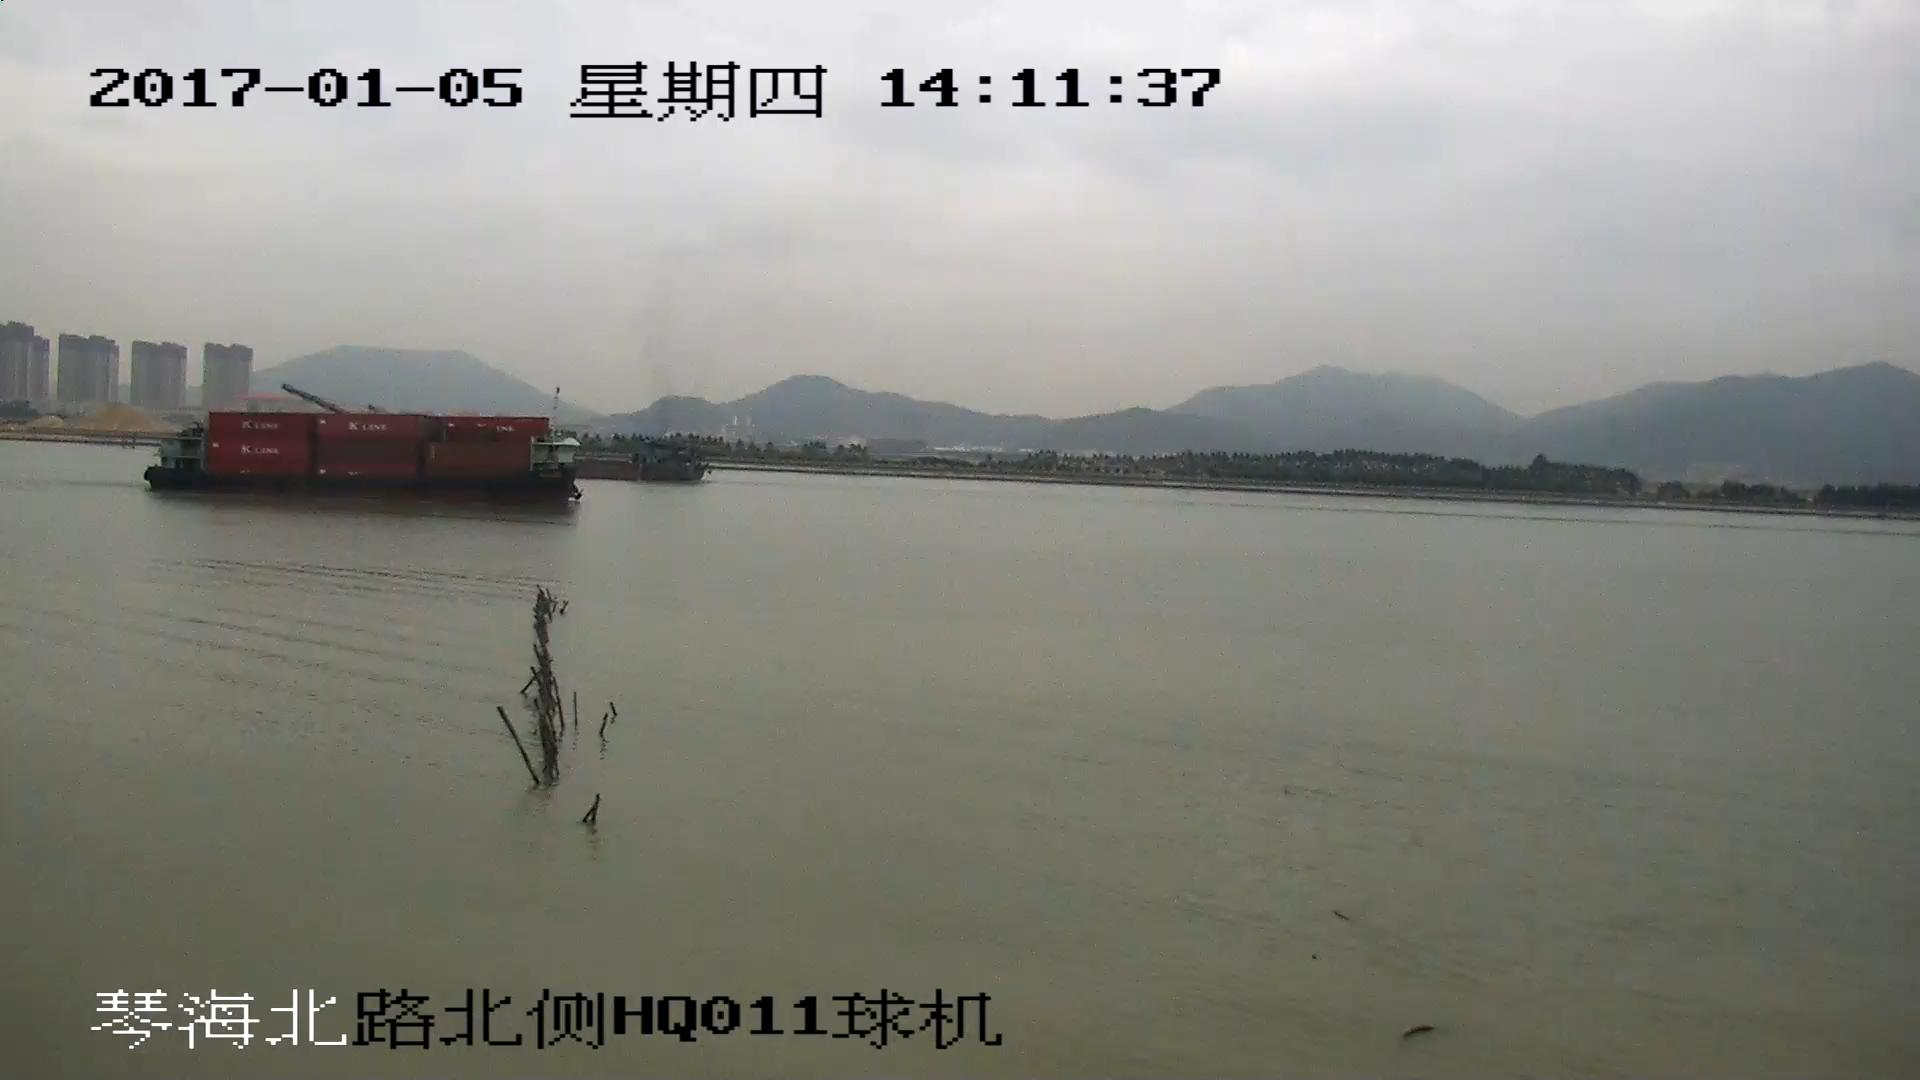bulk cargo carrier: (566, 447, 706, 486)
container ship: (145, 413, 577, 508)
